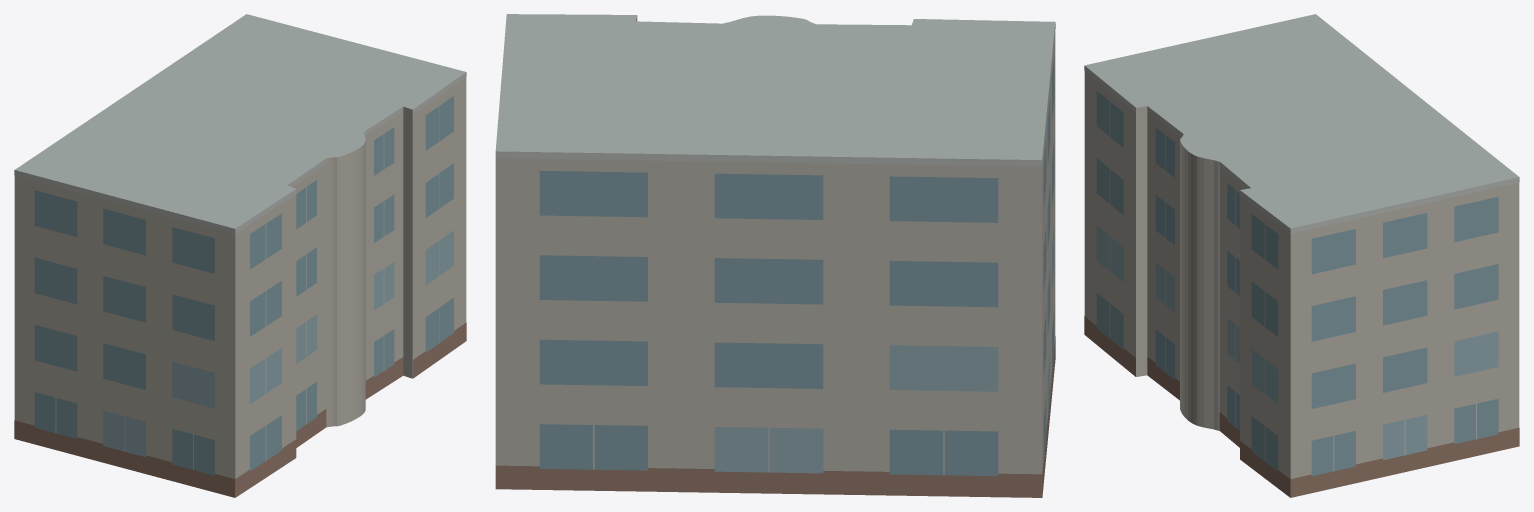
The model's file is survey-upis-32809886.glb.
3 renders of one model, left to right at view 1: azimuth 30°, elevation 25°; view 2: azimuth 150°, elevation 25°; view 3: azimuth 270°, elevation 25°, orthographic. The views are drawn at different scales.
Visible parts, largest first — view 1: survey-upis-32809886.tmp; view 2: survey-upis-32809886.tmp; view 3: survey-upis-32809886.tmp.
Part boxes in pixels (x1,y1,x2,y2): survey-upis-32809886.tmp: [14, 14, 466, 497]; survey-upis-32809886.tmp: [495, 14, 1055, 497]; survey-upis-32809886.tmp: [1084, 14, 1519, 497].
Bounding box in the file's own units: 20.85 × 12.2 × 17.87.
